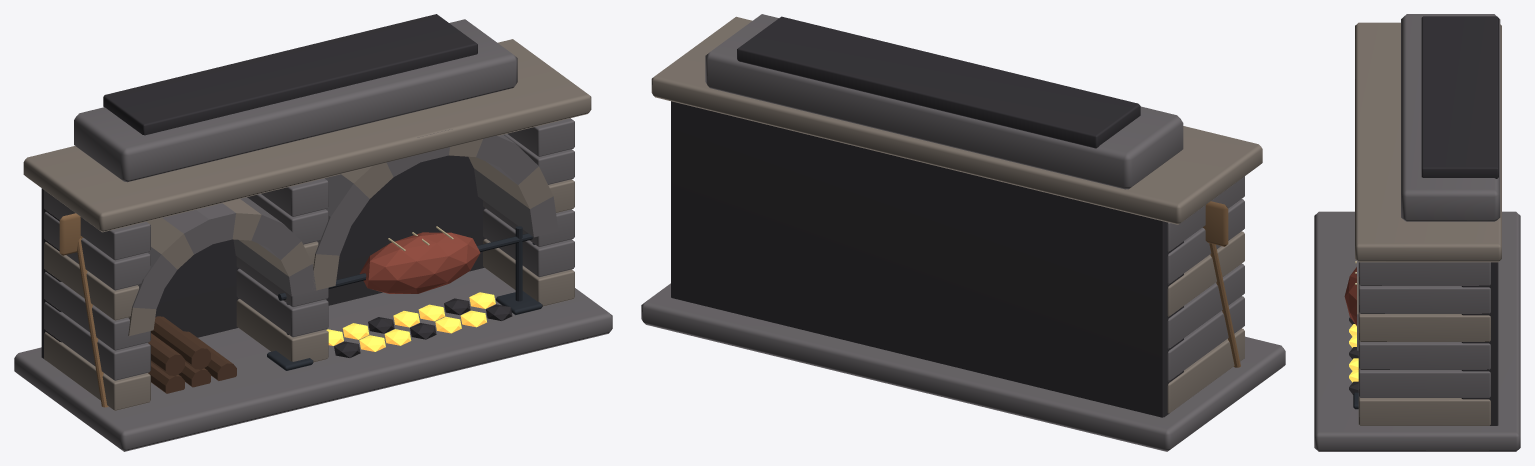
Rendered from feast_hearth.glb.
3 renders of one model, left to right at view 1: azimuth 30°, elevation 25°; view 2: azimuth 150°, elevation 25°; view 3: azimuth 270°, elevation 25°, orthographic. The views are drawn at different scales.
Parts seen in each view (by area): view 1: feast_hearth; view 2: feast_hearth; view 3: feast_hearth.
Boxes of the visible parts, x1,y1,x2,y2 form: feast_hearth: [14, 14, 612, 451]; feast_hearth: [641, 14, 1285, 451]; feast_hearth: [1314, 14, 1520, 451].
Bounding box in the file's own units: 7.26 × 3.75 × 2.8.
